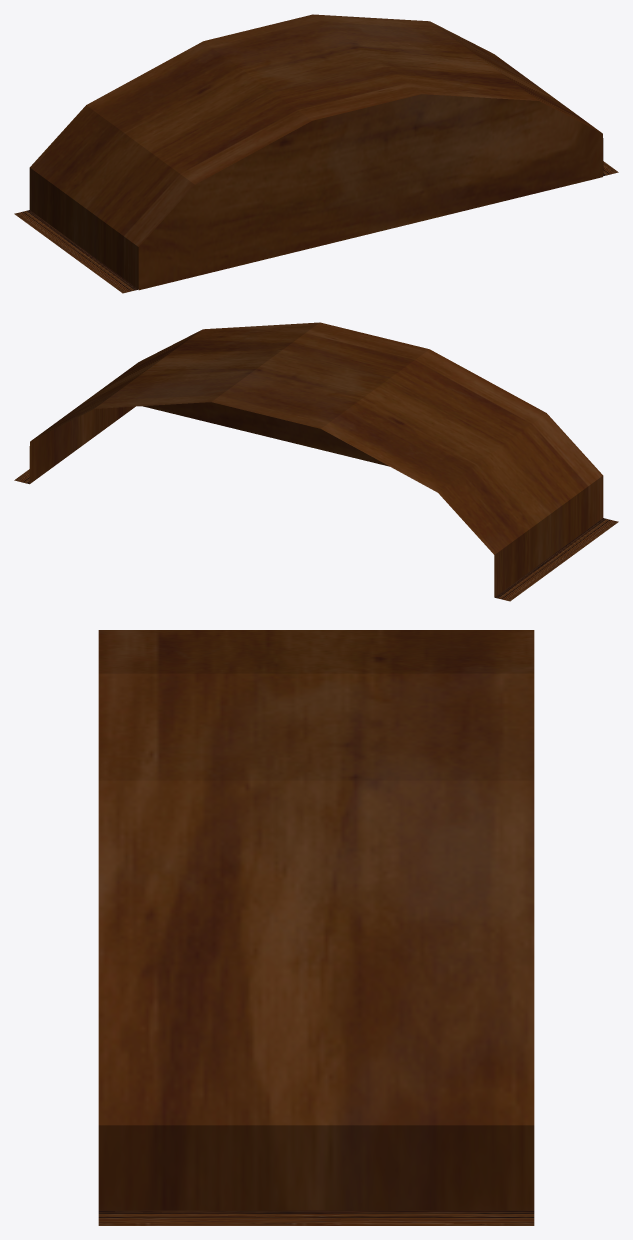
File: Kitchen_GEO_GRP1_Kitchen_92.obj
3 views of the same model, one above another, from view 1: azimuth 30°, elevation 25°; view 2: azimuth 150°, elevation 25°; view 3: azimuth 270°, elevation 25° (orthographic). The views are drawn at different scales.
Visible parts, largest first — view 1: Kitchen_GEO_GRP1_Kitchen_92; view 2: Kitchen_GEO_GRP1_Kitchen_92; view 3: Kitchen_GEO_GRP1_Kitchen_92.
Part boxes in pixels (<box>): Kitchen_GEO_GRP1_Kitchen_92: <box>14,14,618,293</box>; Kitchen_GEO_GRP1_Kitchen_92: <box>14,322,618,601</box>; Kitchen_GEO_GRP1_Kitchen_92: <box>98,630,534,1225</box>.
Size of the model in its own units: 1.32 by 0.3234 by 0.5016.
Materials: 1 (1 with a texture image).
